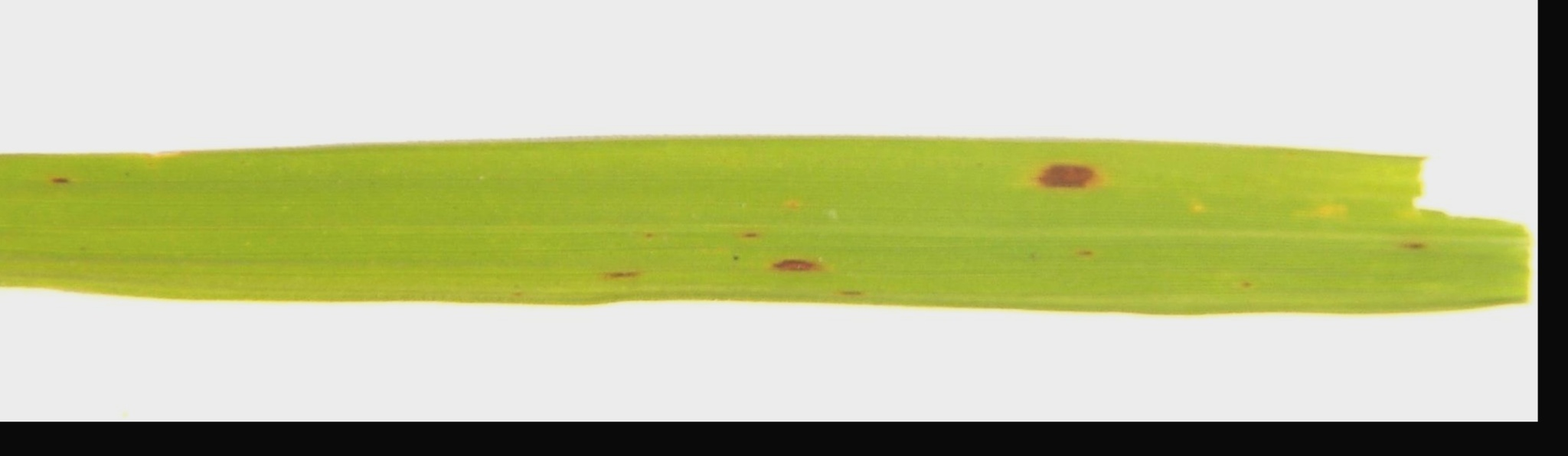Bacterial_Leaf_Blight: (999, 142, 1126, 205), (742, 237, 851, 289), (1377, 220, 1448, 277), (585, 256, 652, 292), (32, 161, 90, 198)
